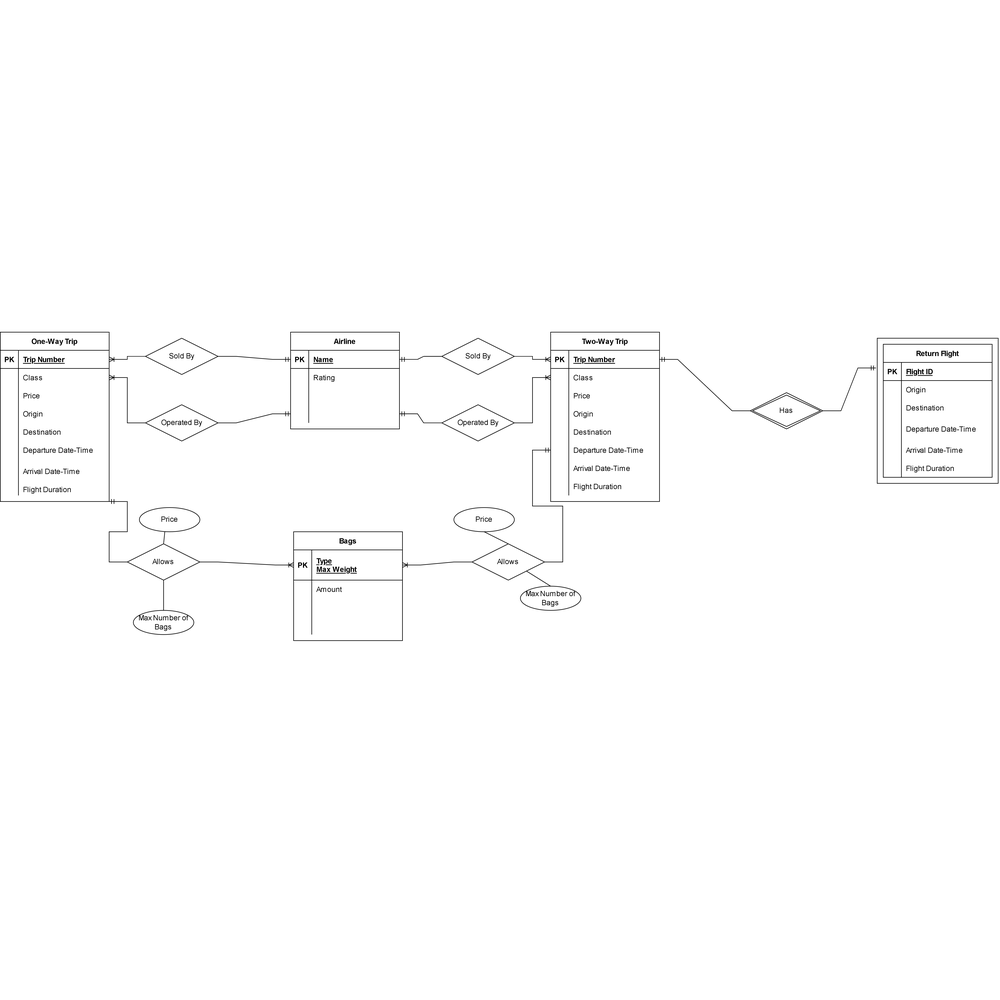attribute: (130, 495, 207, 537), (128, 605, 201, 641), (514, 582, 592, 614), (451, 502, 521, 535)
entity: (533, 317, 676, 512), (874, 330, 1000, 495), (1, 331, 114, 504), (286, 518, 412, 652), (286, 324, 407, 438)
relationship: (745, 382, 834, 429), (144, 336, 225, 379), (130, 540, 208, 584), (139, 404, 225, 443), (471, 538, 549, 577), (442, 338, 517, 378), (445, 401, 515, 443)
